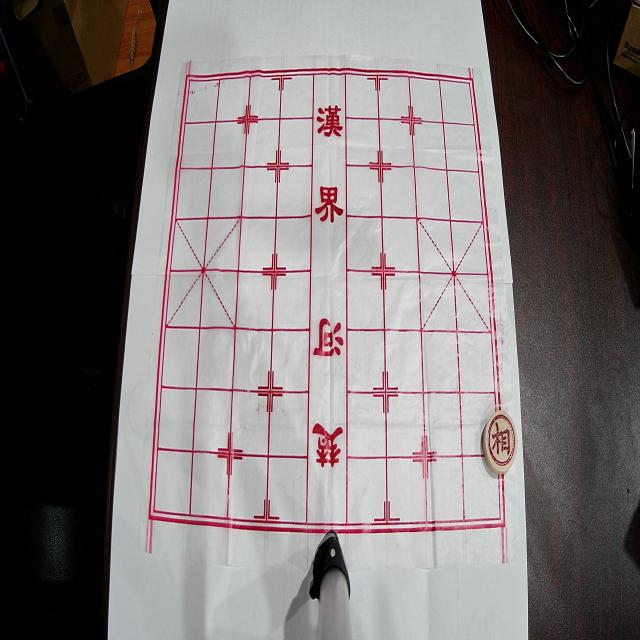red-elephant: (482, 410, 518, 475)
